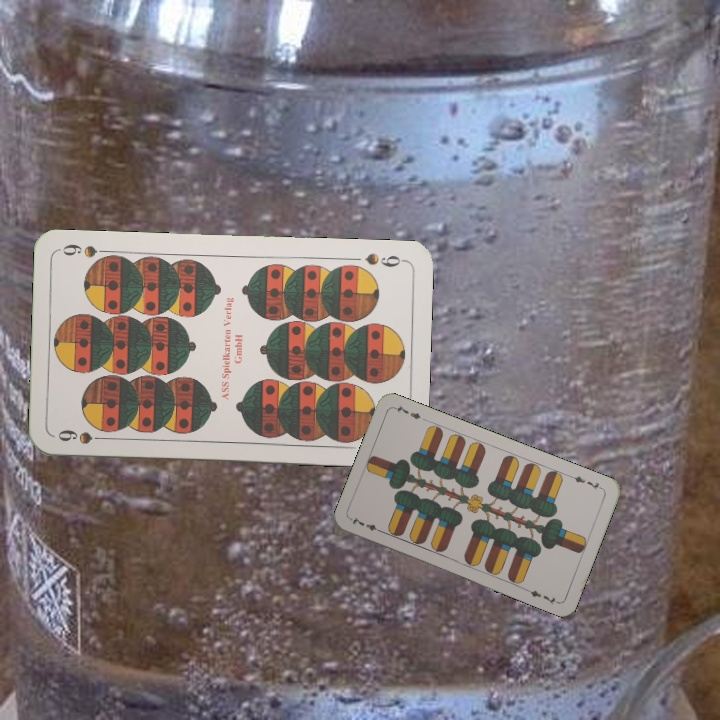E7: (347, 512, 386, 536), (566, 471, 605, 493)
S9: (54, 425, 112, 447), (361, 249, 407, 270)
